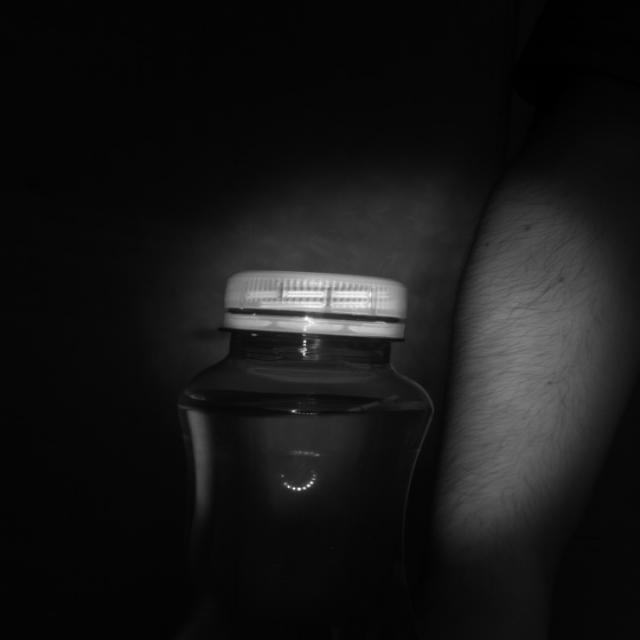Not Good: (224, 269, 405, 338)
